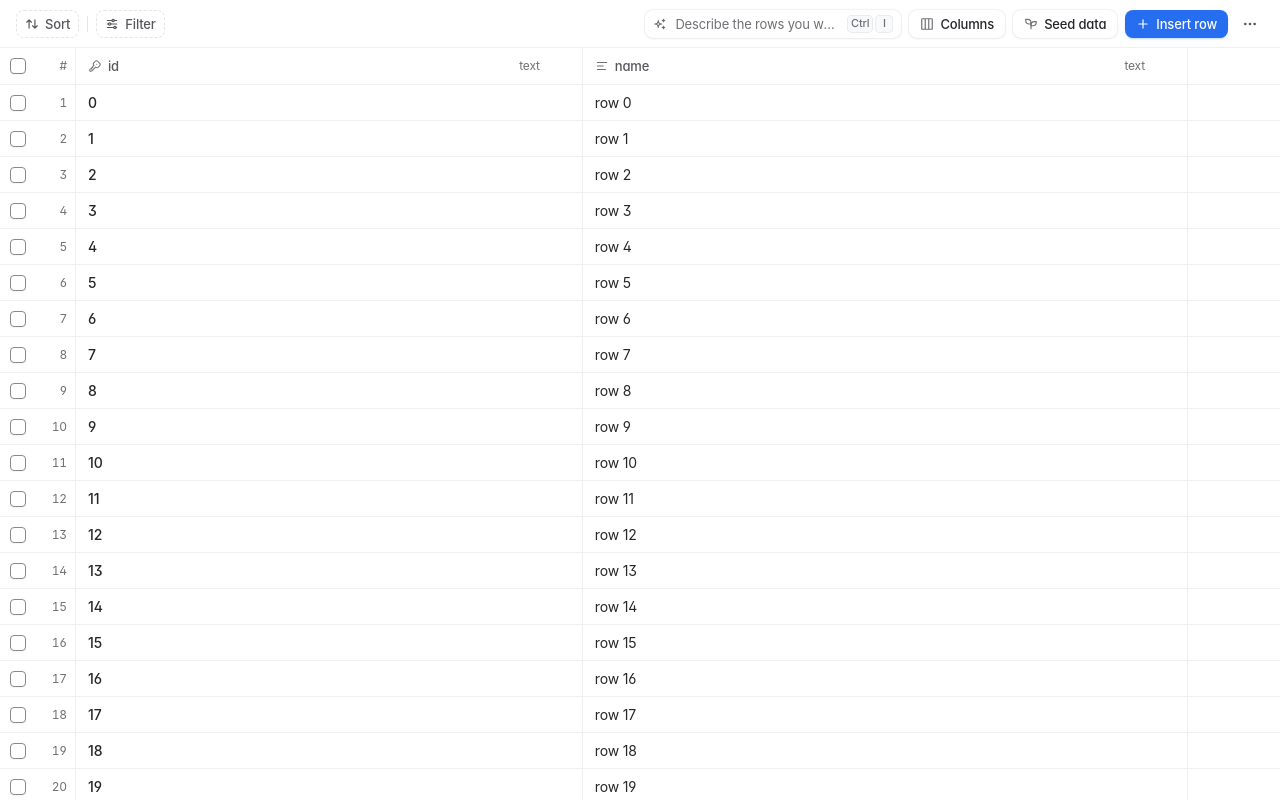
Test: in the table view › re-renders only the row whose checkbox was clicked
Check: the text "row 3" is shown, box [595,202,631,218]
Click the checkbox named "Select row 4".
click(18, 210)  # box [10,202,26,218]
(page scrolled)
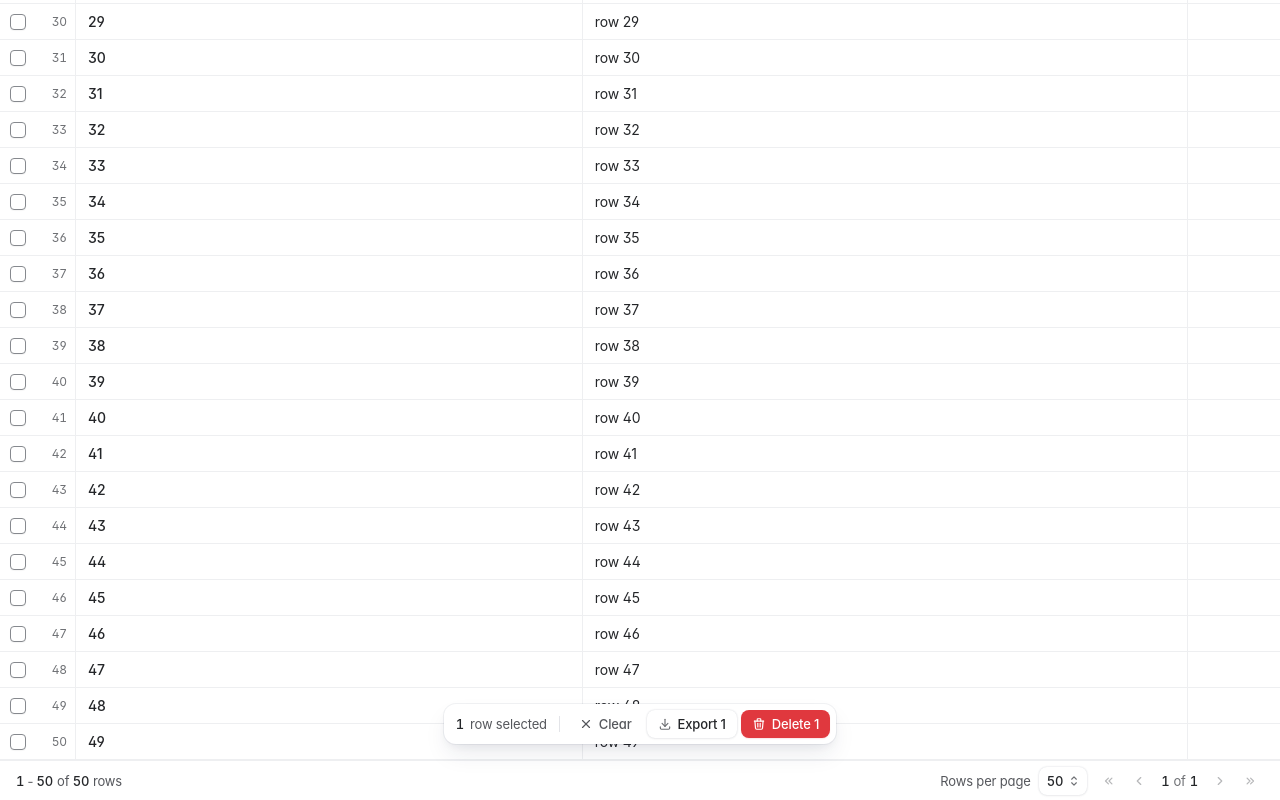
Check: the text "1 row selected" is shown, box [456,715,551,733]
